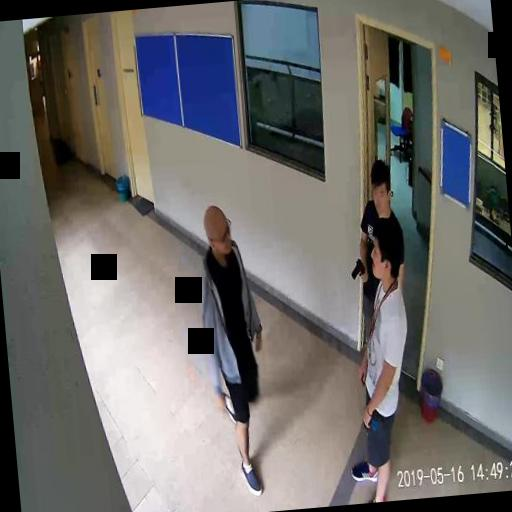Handgun: (348, 256, 366, 282)
